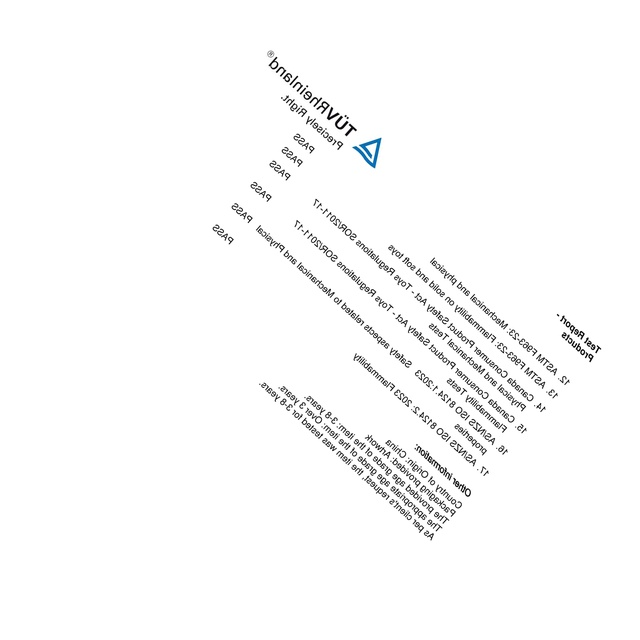tuv_rheinland: (267, 48, 380, 170)
